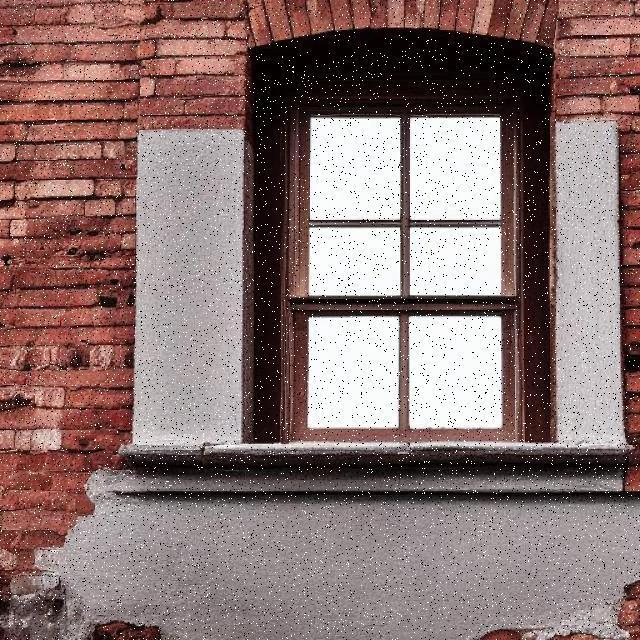window: (246, 48, 554, 440)
